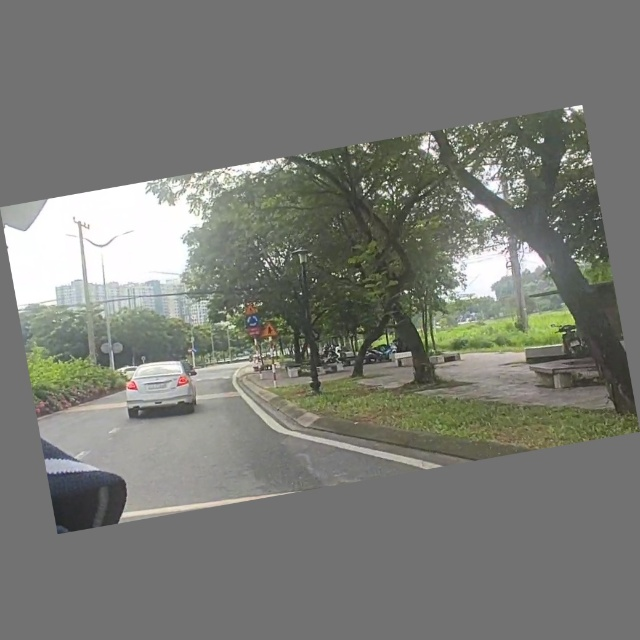R.302a: (192, 348, 198, 355)
R.303: (245, 314, 261, 329)
W.207: (258, 322, 279, 340)
W.224: (244, 304, 259, 317)
